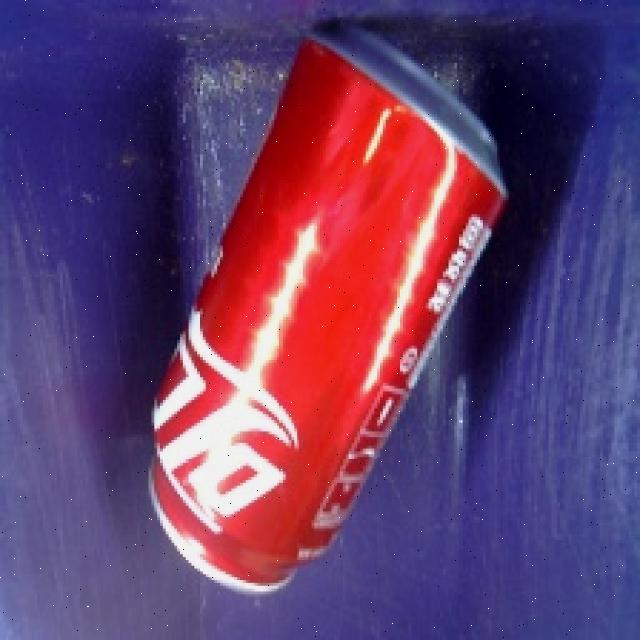metal: (129, 15, 532, 607)
